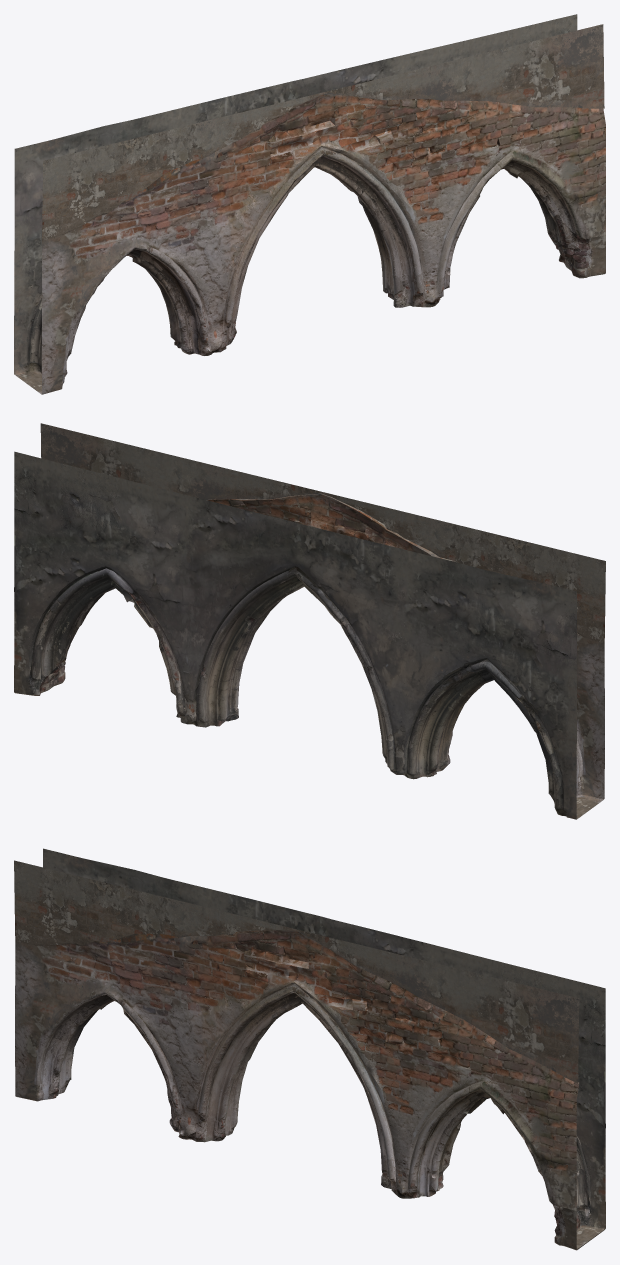
The model's file is SM_ChapelArch_01_02.fbx.
3 renders of one model, top to bottom at view 1: azimuth 30°, elevation 25°; view 2: azimuth 150°, elevation 25°; view 3: azimuth 330°, elevation 25°, orthographic.
Parts seen in each view (by area): view 1: sm_ChapelArch_01_02_LOD0; view 2: sm_ChapelArch_01_02_LOD0; view 3: sm_ChapelArch_01_02_LOD0.
Part boxes in pixels (x1,y1,x2,y2): sm_ChapelArch_01_02_LOD0: (14, 14, 605, 394); sm_ChapelArch_01_02_LOD0: (14, 423, 605, 819); sm_ChapelArch_01_02_LOD0: (14, 848, 605, 1250).
Size of the model in its own units: 73.03 by 689 by 292.
